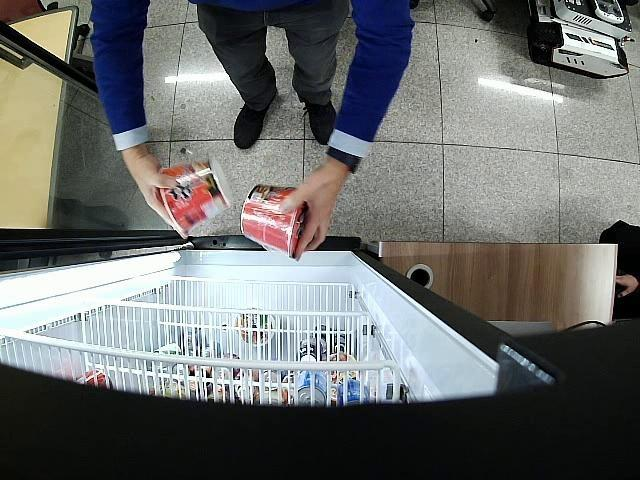01_ShinRamen_L: (160, 156, 235, 237), (241, 184, 308, 257)
